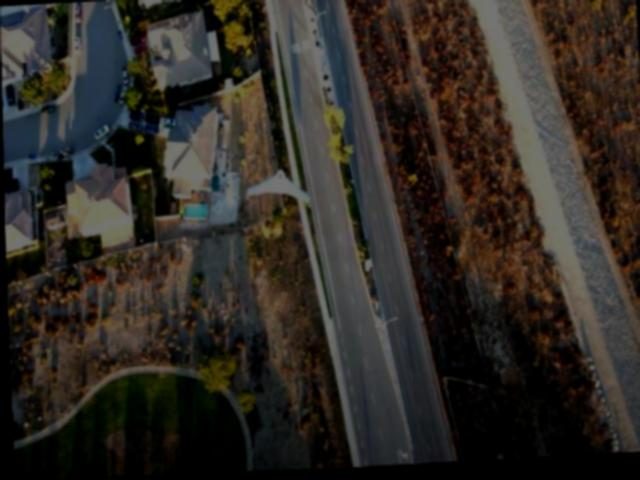iha: (242, 165, 313, 205)
